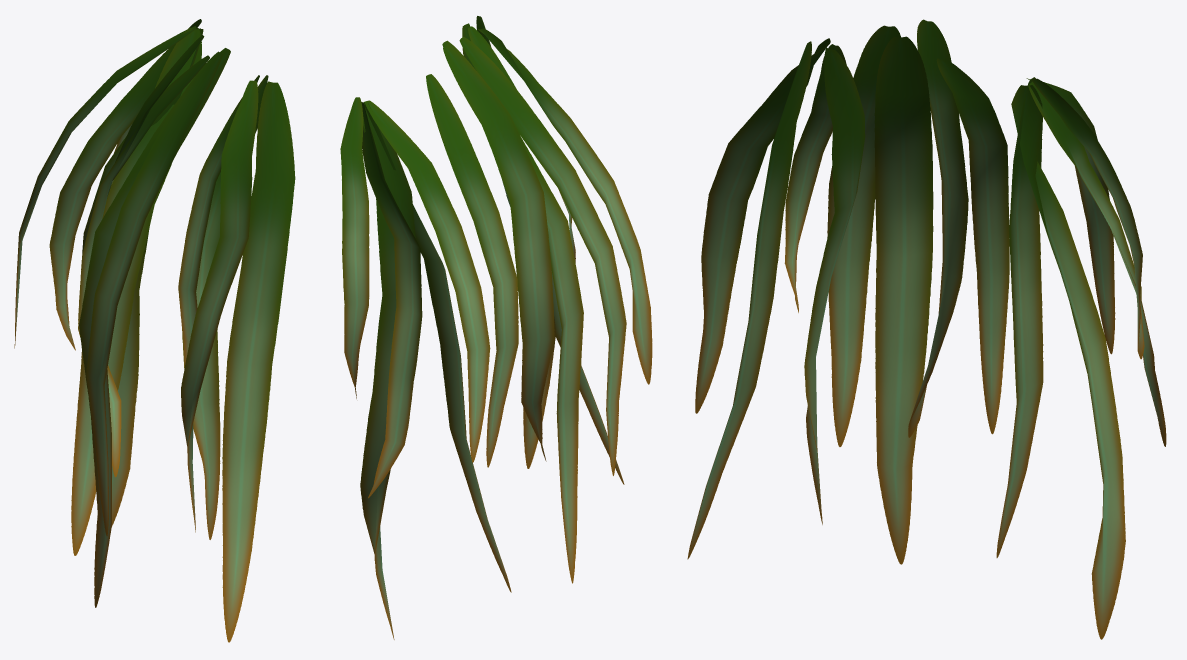
The model's file is SM_WallGrassClump_a.fbx.
3 views of the same model, side by side, from view 1: azimuth 30°, elevation 25°; view 2: azimuth 150°, elevation 25°; view 3: azimuth 270°, elevation 25° (orthographic). The views are drawn at different scales.
Parts seen in each view (by area): view 1: SM_WallGrassClump_a; view 2: SM_WallGrassClump_a; view 3: SM_WallGrassClump_a.
Boxes of the visible parts, <box> form: SM_WallGrassClump_a: <box>14,19,295,642</box>; SM_WallGrassClump_a: <box>340,16,652,639</box>; SM_WallGrassClump_a: <box>687,19,1166,639</box>.
Bounding box in the file's own units: 46.12 × 86.4 × 125.
Materials: 1 (1 with a texture image).
